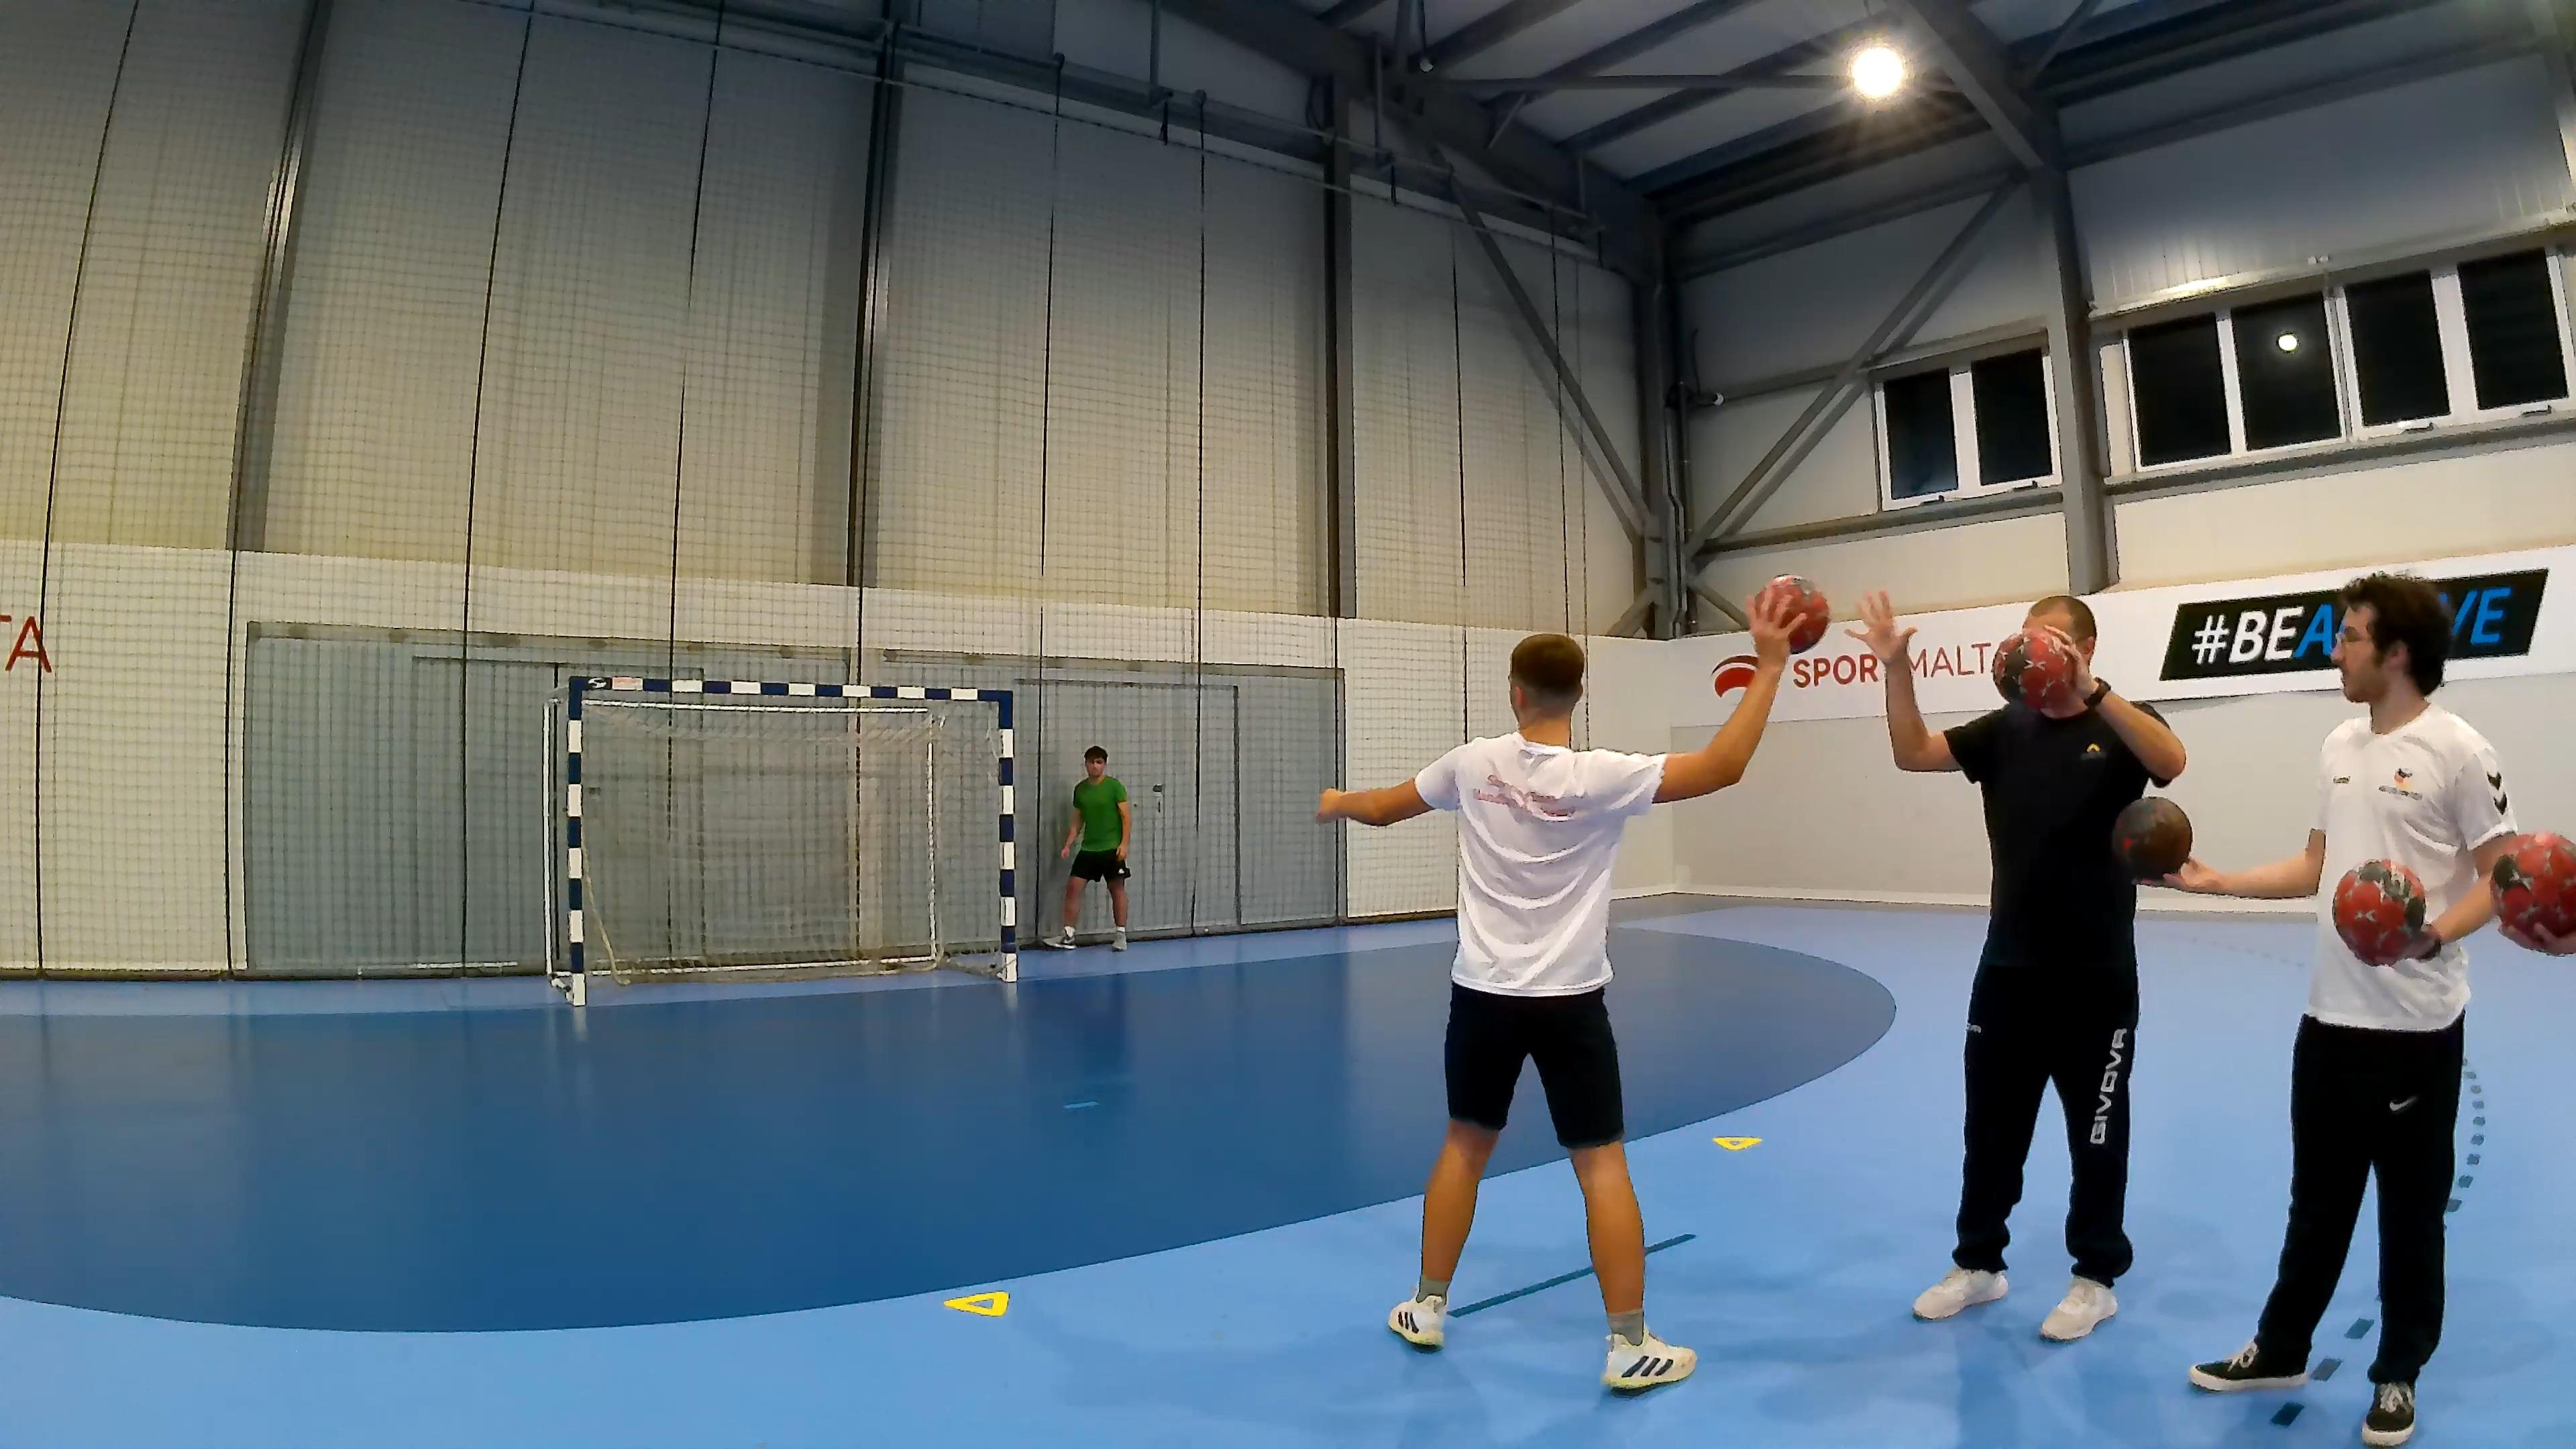handball: (2489, 828, 2576, 955), (2330, 858, 2429, 966), (1990, 628, 2074, 711), (2111, 794, 2192, 879), (1753, 573, 1829, 653)
